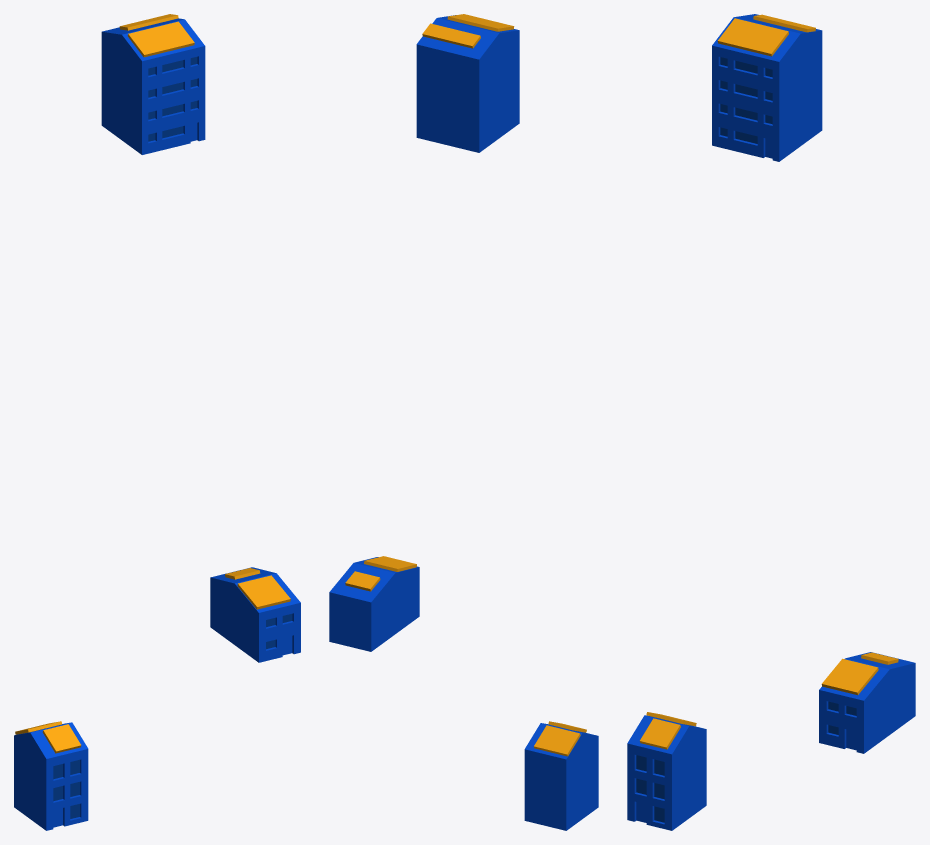
File: BinaGrup1.gltf
3 renders of one model, left to right at view 1: azimuth 30°, elevation 25°; view 2: azimuth 150°, elevation 25°; view 3: azimuth 330°, elevation 25°, orthographic. The views are drawn at different scales.
Visible parts, largest first — view 1: Building_071.017, Building_069.017, Building_082.017, Building_071_RoofCap_0.001, Building_082_RoofCap_0.001, Building_071.019, Building_069_RoofCap_0.001, Building_069.019; view 2: Building_071.017, Building_069.017, Building_082.017, Building_069_RoofCap_1.001, Building_071_RoofCap_1.001, Building_071_RoofCap_0.001, Building_082_RoofCap_0.001; view 3: Building_071.017, Building_069.017, Building_082.017, Building_071_RoofCap_0.001, Building_082_RoofCap_0.001, Building_071.019, Building_069_RoofCap_0.001, Building_069.019.
Part boxes in pixels (x1,y1,x2,y2): Building_071.017: (101,18,205,154); Building_069.017: (14,722,88,830); Building_082.017: (210,567,300,662); Building_071_RoofCap_0.001: (127,21,194,57); Building_082_RoofCap_0.001: (237,575,290,609); Building_071.019: (148,57,197,141); Building_069_RoofCap_0.001: (42,724,81,753); Building_069.019: (53,759,79,818); Building_071.017: (416,15,519,152); Building_069.017: (524,723,598,830); Building_082.017: (329,557,419,651); Building_069_RoofCap_1.001: (534,725,580,756); Building_071_RoofCap_1.001: (422,23,480,48); Building_071_RoofCap_0.001: (447,14,514,31); Building_082_RoofCap_0.001: (364,556,416,571); Building_071.017: (712,14,822,161); Building_069.017: (627,715,706,830); Building_082.017: (819,652,915,753); Building_071_RoofCap_0.001: (717,18,788,56); Building_082_RoofCap_0.001: (821,658,878,695); Building_071.019: (720,57,772,143); Building_069_RoofCap_0.001: (640,718,680,749); Building_069.019: (636,755,664,822).
Size of the model in its own units: 0.1848 by 0.5688 by 0.0652.
